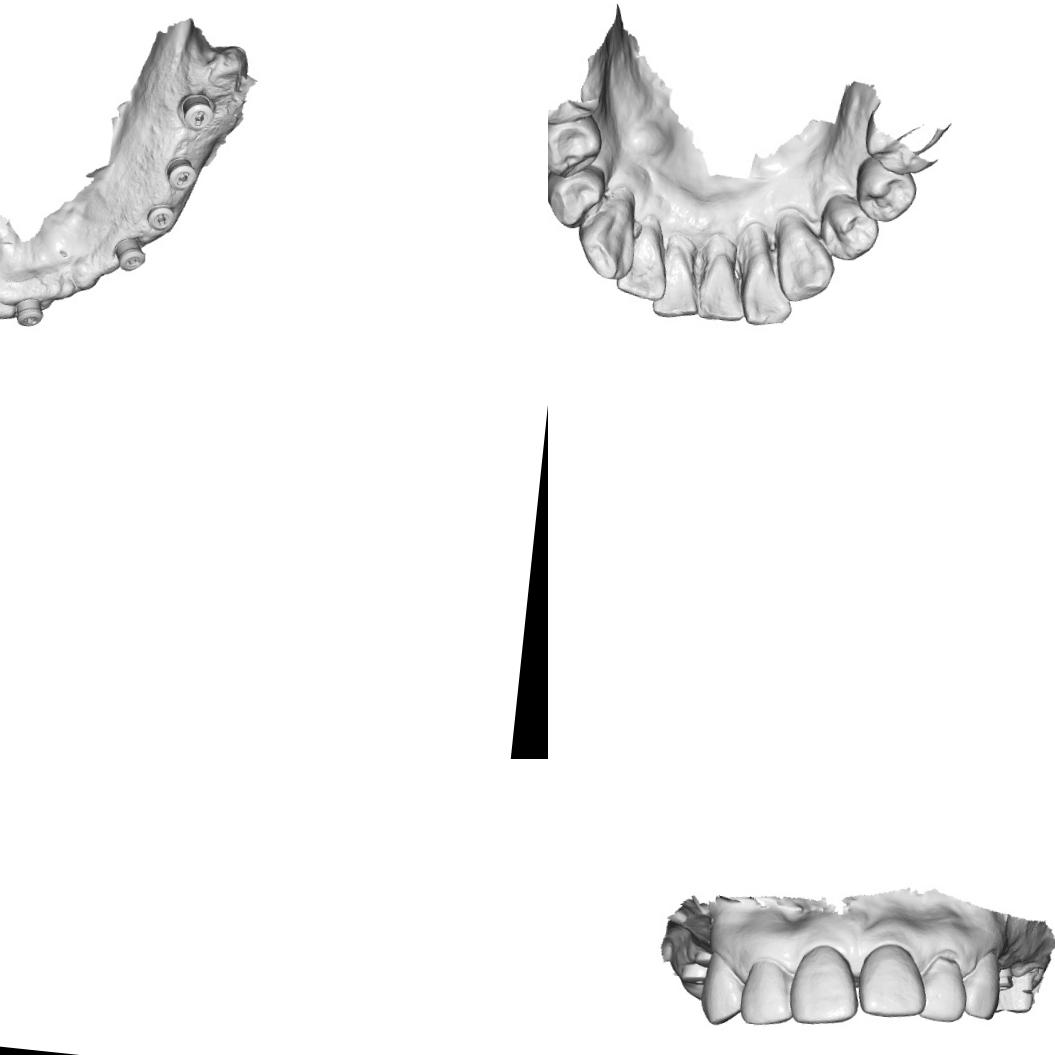canine: (573, 187, 640, 284), (770, 220, 839, 305), (697, 947, 746, 1028), (956, 944, 1004, 1025)
implant: (679, 953, 712, 995), (992, 960, 1020, 992)
implant_minus: (173, 89, 219, 134), (110, 235, 150, 274), (142, 198, 182, 236), (11, 293, 49, 331), (162, 158, 199, 195)
incisor: (782, 938, 864, 1030), (852, 938, 930, 1024), (739, 230, 800, 328), (693, 241, 752, 325), (649, 239, 708, 322), (614, 222, 672, 306), (737, 954, 800, 1031), (913, 948, 972, 1026)
premolar: (850, 152, 918, 226), (814, 191, 881, 263), (548, 160, 607, 232), (548, 108, 606, 179)
